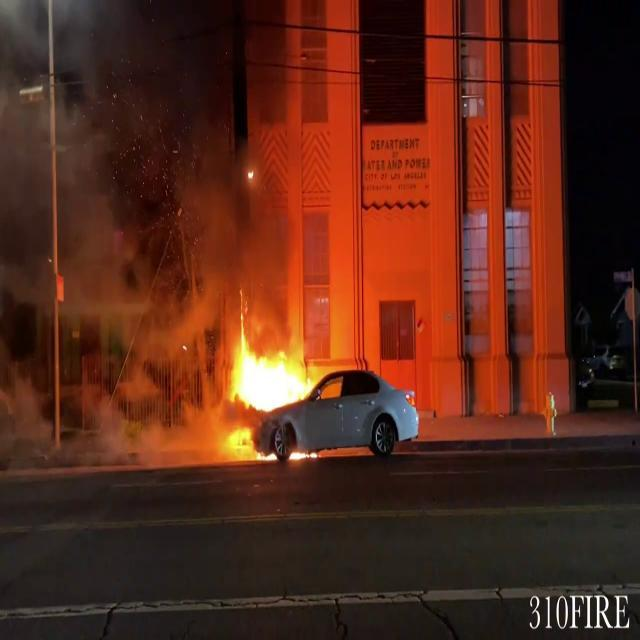Fire: (220, 304, 316, 444)
Smoke: (0, 0, 322, 323)
